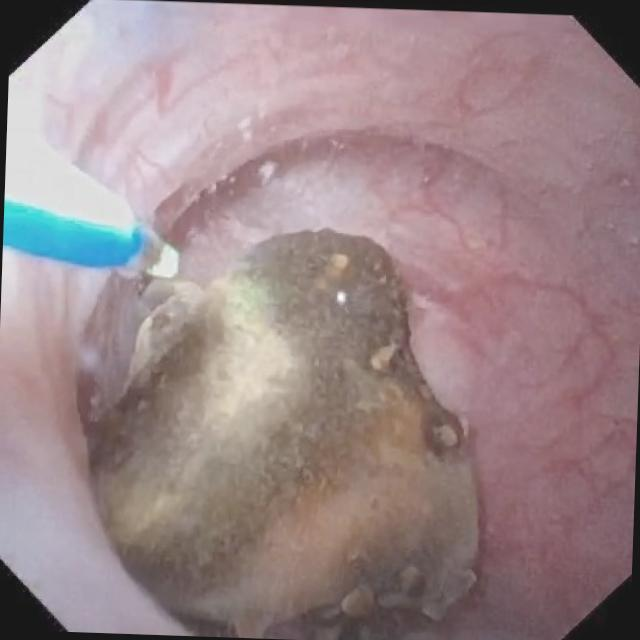laser-fibre: (129, 224, 177, 277)
laser_dot: (234, 282, 265, 313)
stone-new: (90, 227, 477, 636)
